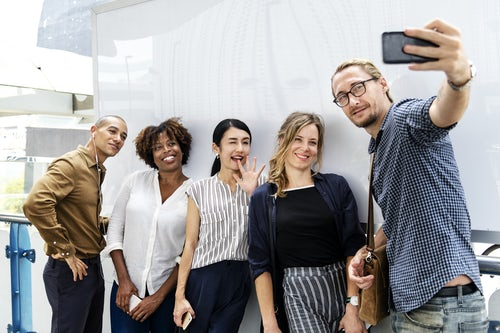phone: (383, 26, 447, 67)
